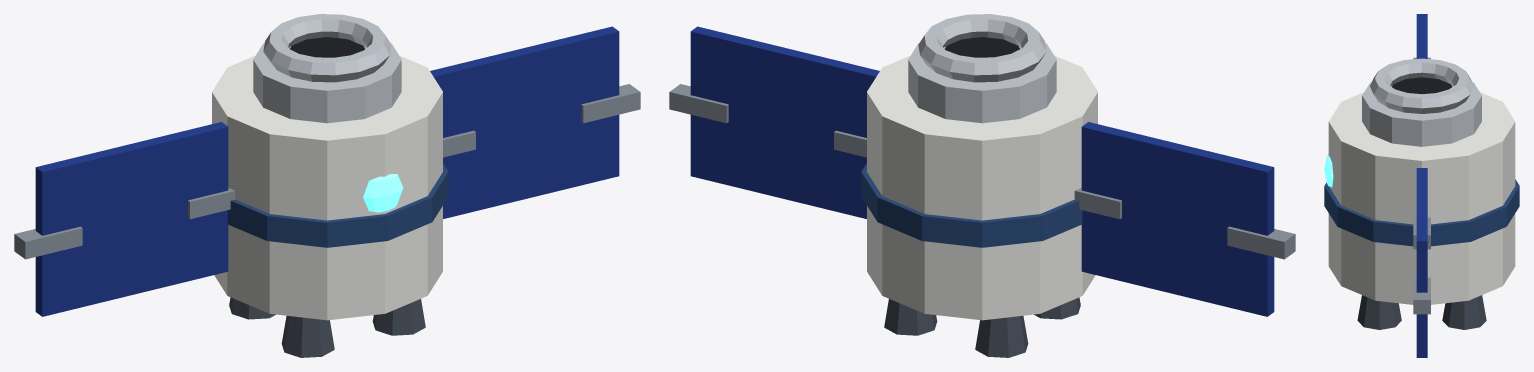
File: vehicle_station.glb
The picture shows the model from 3 angles, left to right: view 1: azimuth 30°, elevation 25°; view 2: azimuth 150°, elevation 25°; view 3: azimuth 270°, elevation 25°; orthographic projection. The views are drawn at different scales.
Visible parts, largest first — view 1: vehicle_station; view 2: vehicle_station; view 3: vehicle_station.
Part boxes in pixels (box(x1,y1,x2,y2)): vehicle_station: box(14, 14, 640, 357); vehicle_station: box(669, 14, 1295, 357); vehicle_station: box(1324, 14, 1519, 357).
Bounding box in the file's own units: 4.63 × 2 × 1.58.
